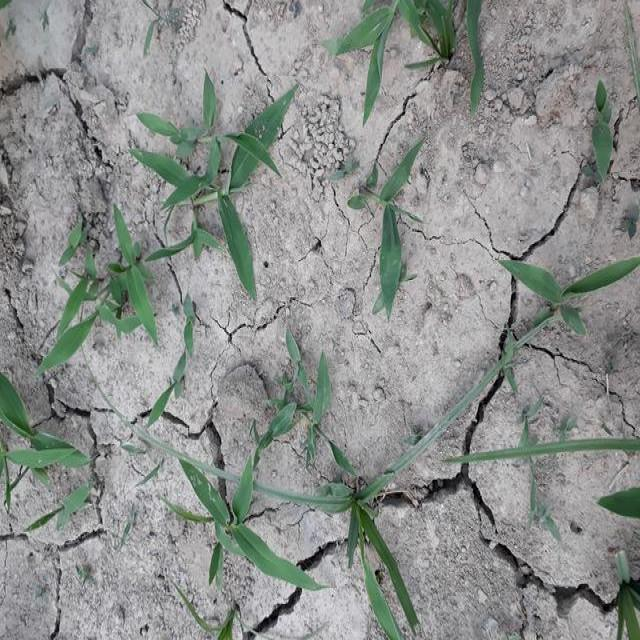weed: (128, 93, 288, 280), (289, 470, 448, 617), (354, 1, 498, 102), (187, 463, 291, 596), (62, 239, 162, 347), (501, 250, 640, 312), (372, 158, 428, 310), (2, 376, 71, 489), (270, 336, 327, 459), (583, 84, 616, 184)
